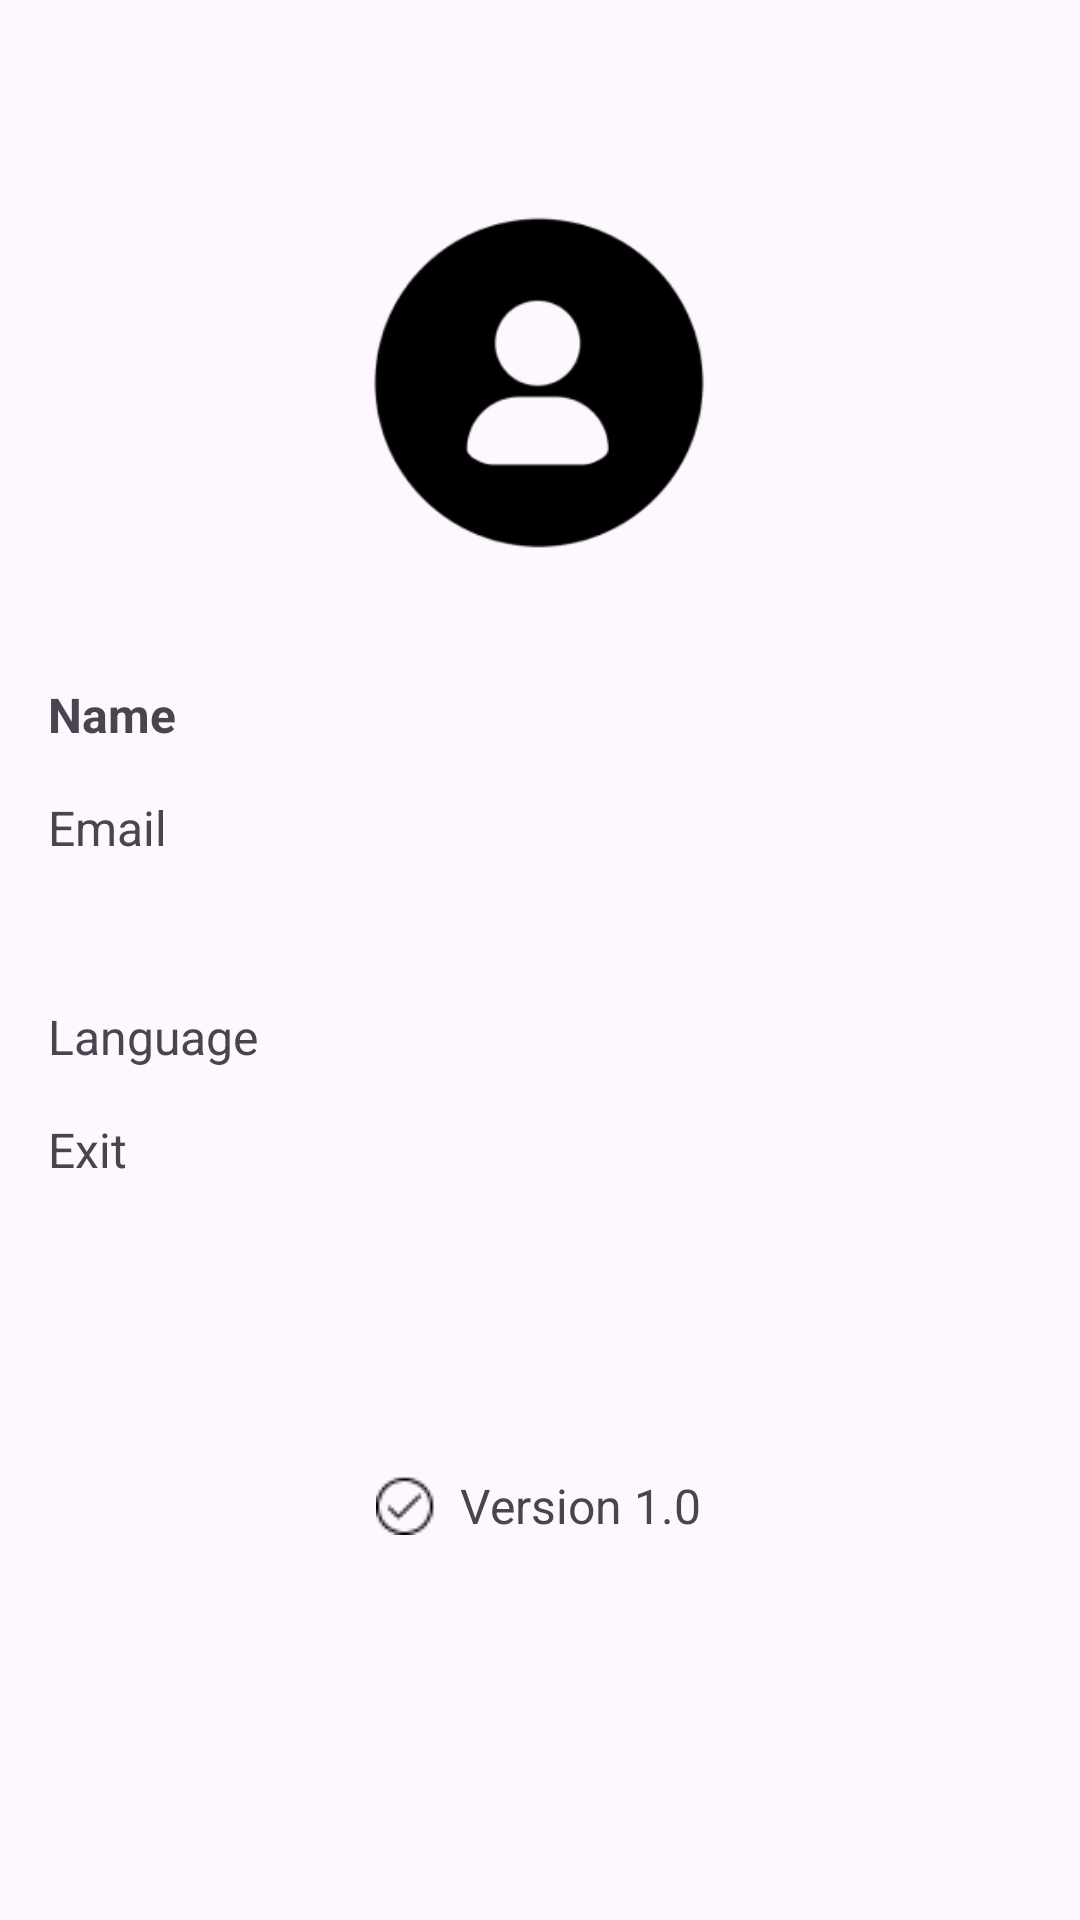

Icons on this 1080*1920 Android screen, each with its box as BBox(x1, y1, x2, y2):
Image For Profile: BBox(374, 217, 704, 548)
